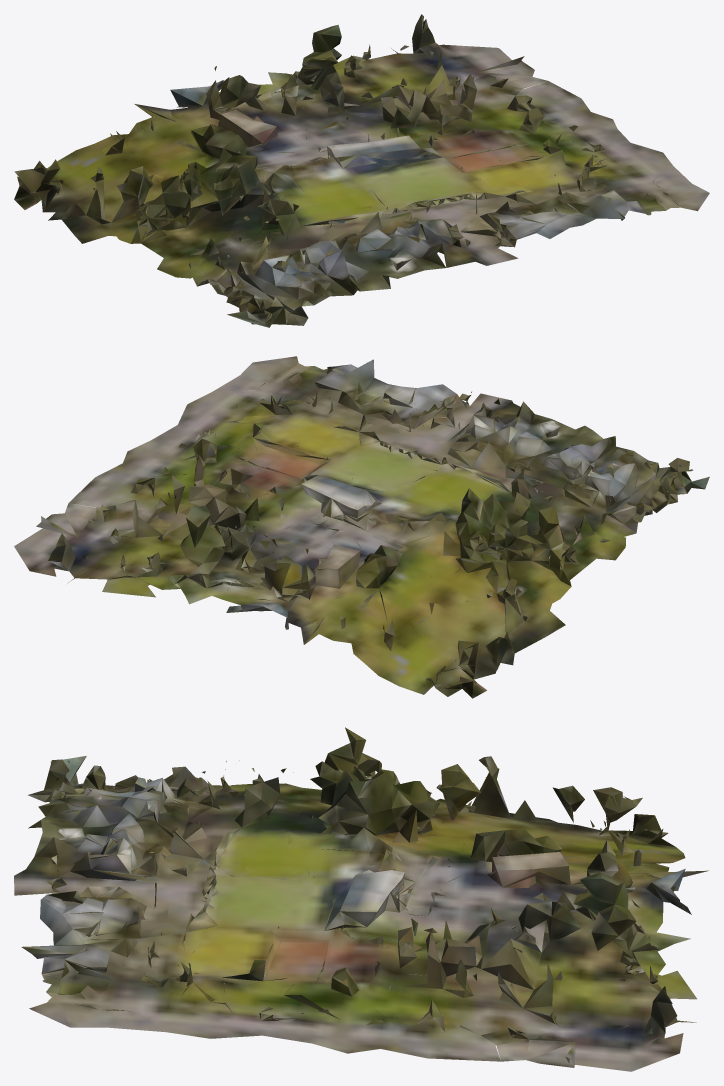
Rendered from Tile_014_009_L15.gltf.
3 views of the same model, one above another, from view 1: azimuth 30°, elevation 25°; view 2: azimuth 150°, elevation 25°; view 3: azimuth 270°, elevation 25° (orthographic). The views are drawn at different scales.
Parts seen in each view (by area): view 1: Tile_+014_+009_L15; view 2: Tile_+014_+009_L15; view 3: Tile_+014_+009_L15.
Part boxes in pixels (box(x1,y1,x2,y2)): Tile_+014_+009_L15: box(14, 14, 709, 327); Tile_+014_+009_L15: box(14, 356, 709, 698); Tile_+014_+009_L15: box(14, 727, 708, 1071).
Bounding box in the file's own units: 233 × 50.4 × 232.
Materials: 1 (1 with a texture image).
